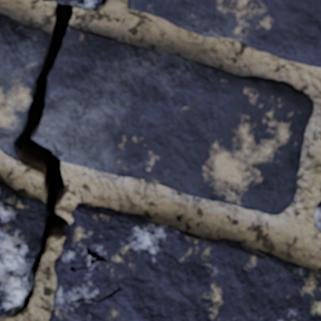brick: (49, 204, 320, 320), (128, 0, 320, 66), (0, 181, 44, 314), (55, 0, 100, 9), (314, 202, 320, 231)
broken_brick: (34, 26, 314, 215), (0, 12, 46, 159)
crack: (0, 2, 75, 318), (99, 0, 108, 5)
